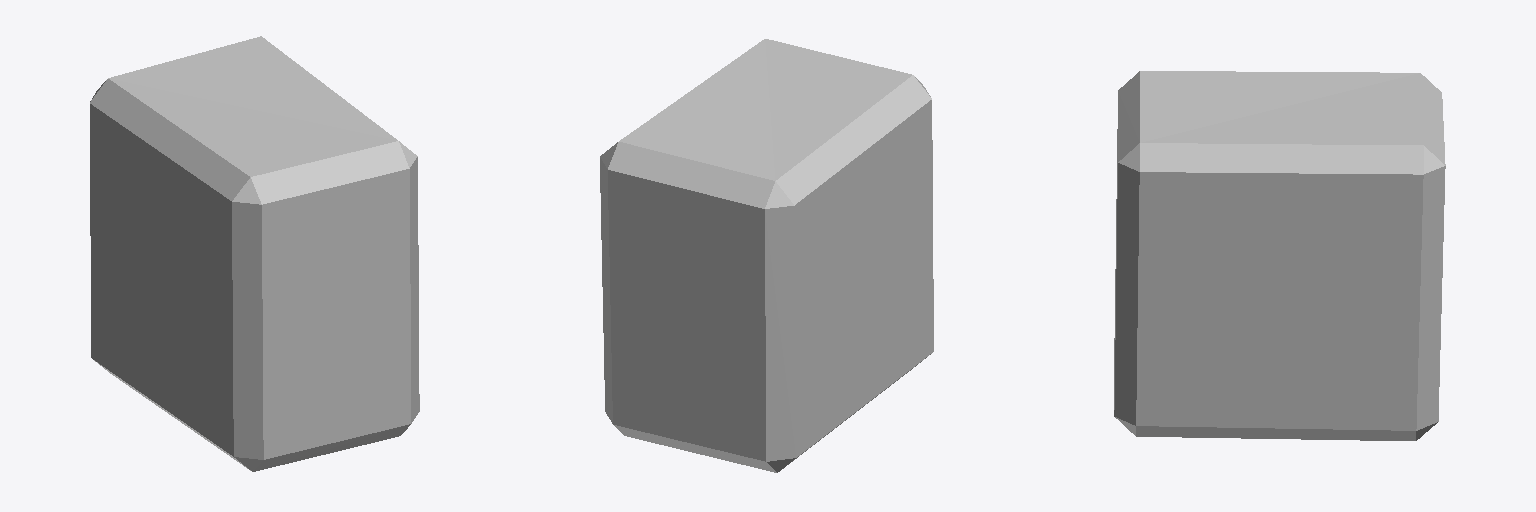
Rendered from spam.obj.
3 renders of one model, left to right at view 1: azimuth 30°, elevation 25°; view 2: azimuth 150°, elevation 25°; view 3: azimuth 270°, elevation 25°, orthographic.
Visible parts, largest first — view 1: Kostka; view 2: Kostka; view 3: Kostka.
Part boxes in pixels (bbox=[...]): Kostka: bbox=[90, 36, 419, 471]; Kostka: bbox=[600, 39, 933, 472]; Kostka: bbox=[1114, 71, 1445, 440].
Bounding box in the file's own units: 1.56 × 2.3 × 2.33.